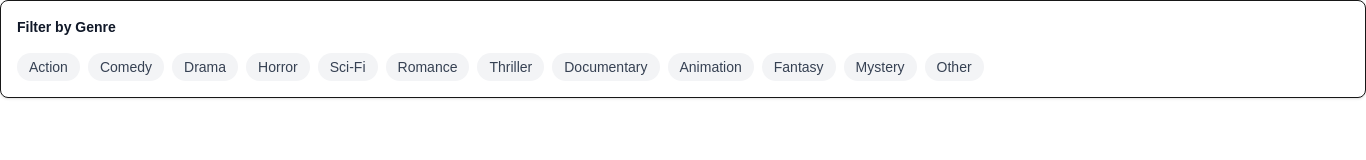
Test: GenreFilter › should show 'Clear all' button when genres are selected
Check: the text "Clear all" is not shown
// Select a genre
Click the button "Action" at {"x": 48, "y": 67}, box [17,53,80,81]
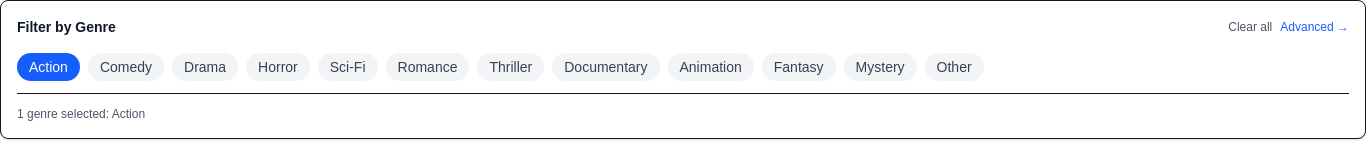
Check: the button "Clear all" is shown, box [1228,19,1272,35]
